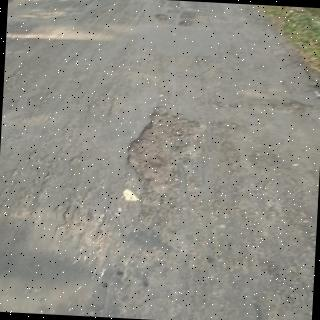pothole: (127, 105, 204, 215)
